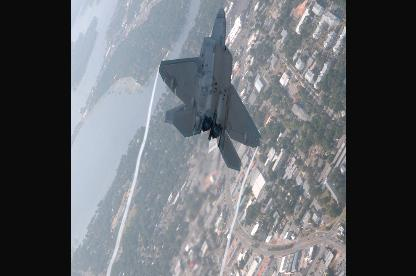F18: (157, 6, 259, 172)
